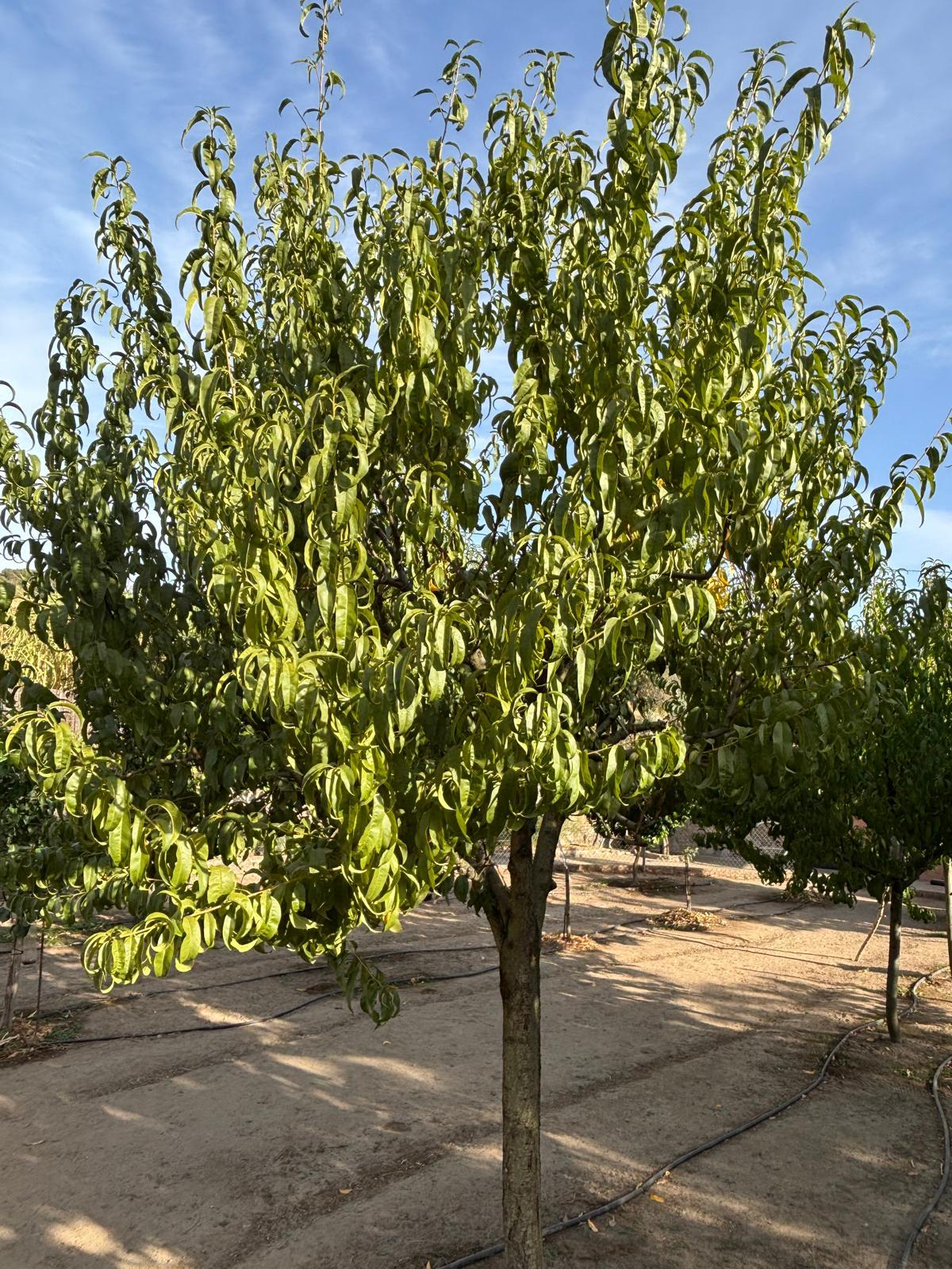melocotonero: (143, 347, 808, 1246)
